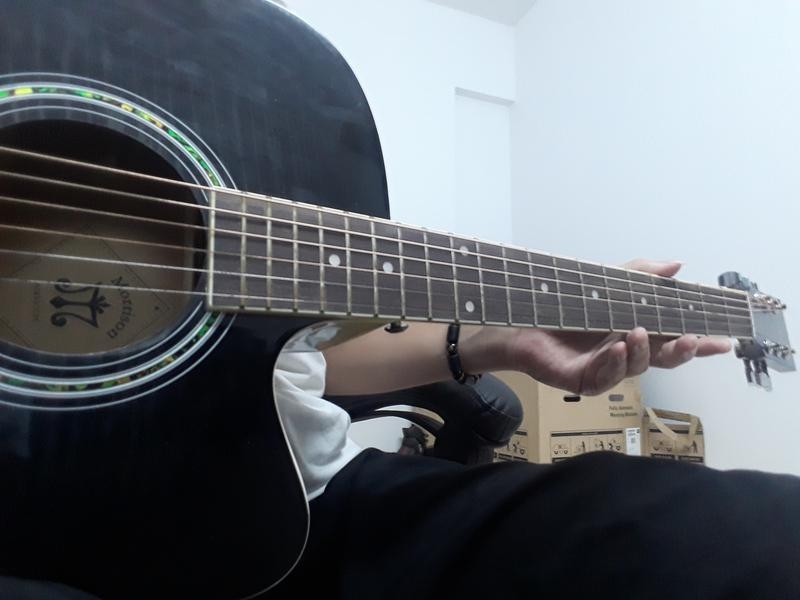my guitar: (1, 2, 797, 594)
